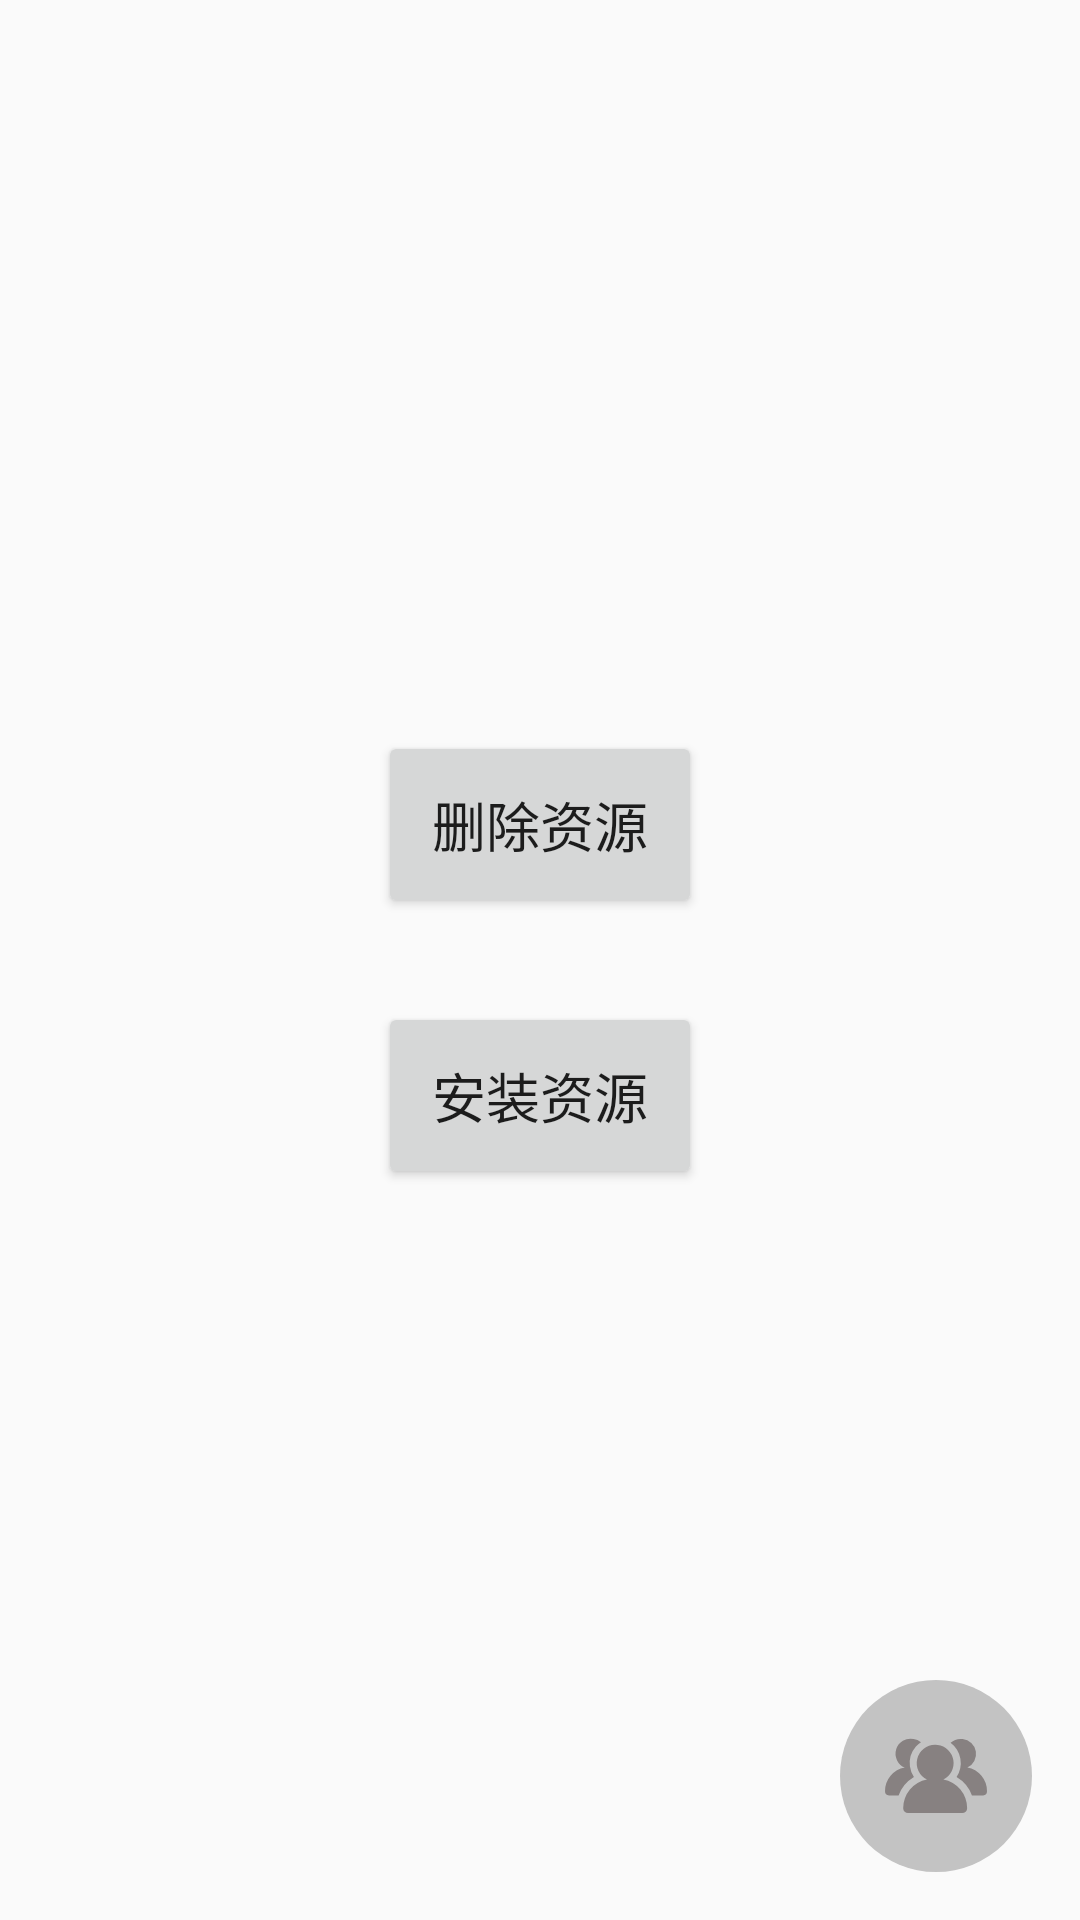

Where icons sit on this 1080 × 1920 app screen, as rect(x1, y1, x2, y2):
group src: rect(840, 1680, 1032, 1872)
